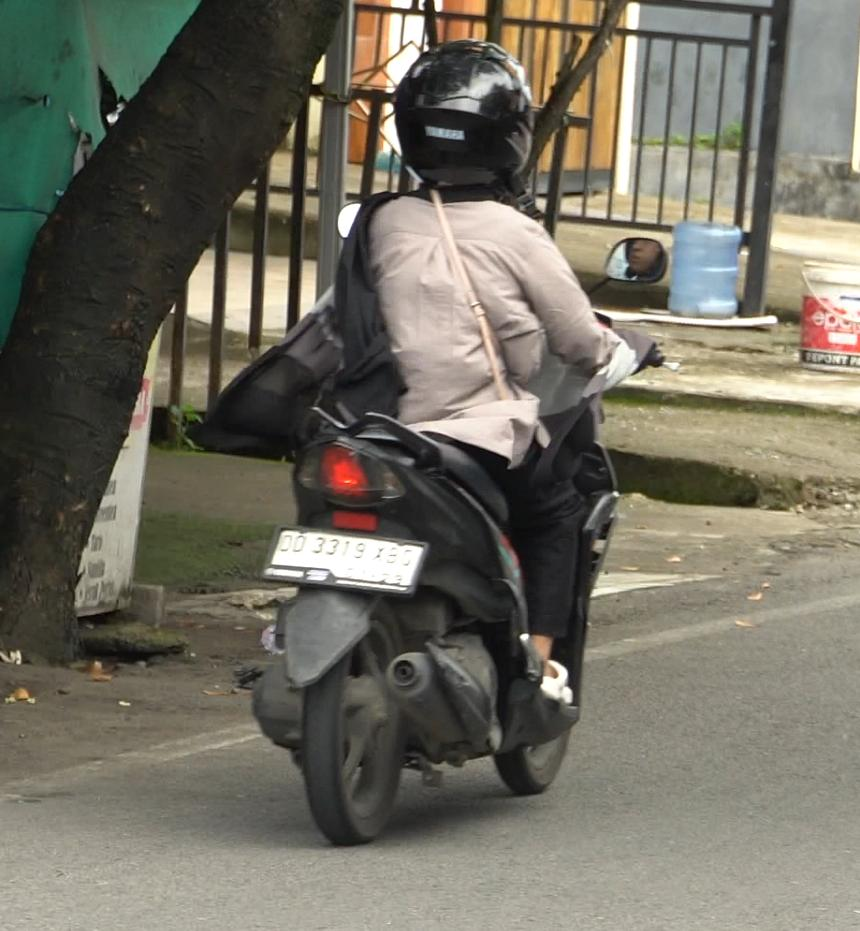number-plate: (256, 525, 426, 598)
